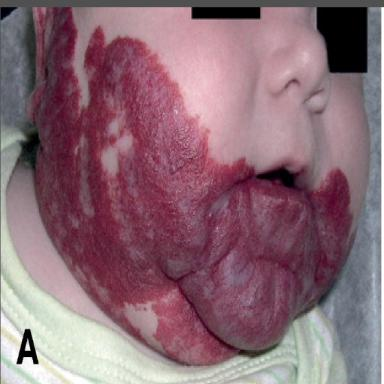Hemangiome: (29, 7, 351, 364)
